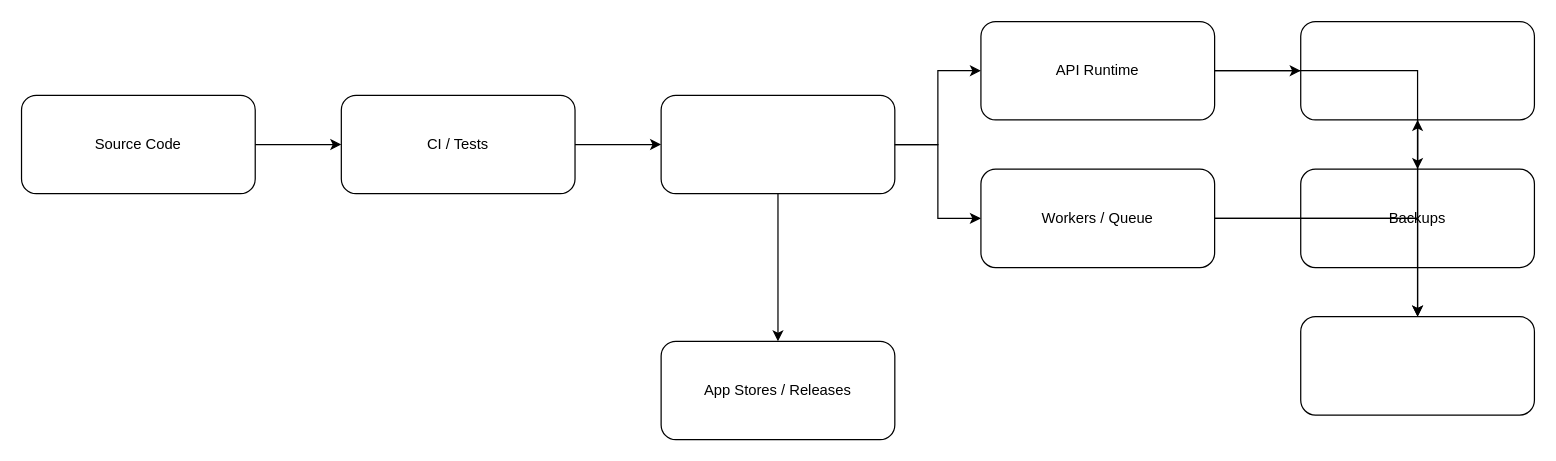
Image size: 1556x461. Some labels were removed from this diagram. Here are the shapes that lost their labels. From the top down, the box of each, then its label:
(1299, 20, 1534, 120): PostgreSQL
(660, 94, 895, 194): Build / Deploy
(1299, 315, 1534, 415): Monitoring / Logs
